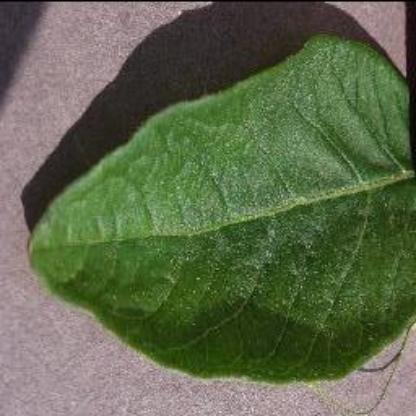Healthy-plant: (40, 52, 412, 394)
